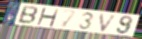3: (78, 12, 96, 31)
7: (60, 9, 77, 29)
9: (116, 15, 136, 36)
B: (17, 5, 39, 25)
H: (36, 7, 60, 28)
V: (99, 13, 119, 33)
